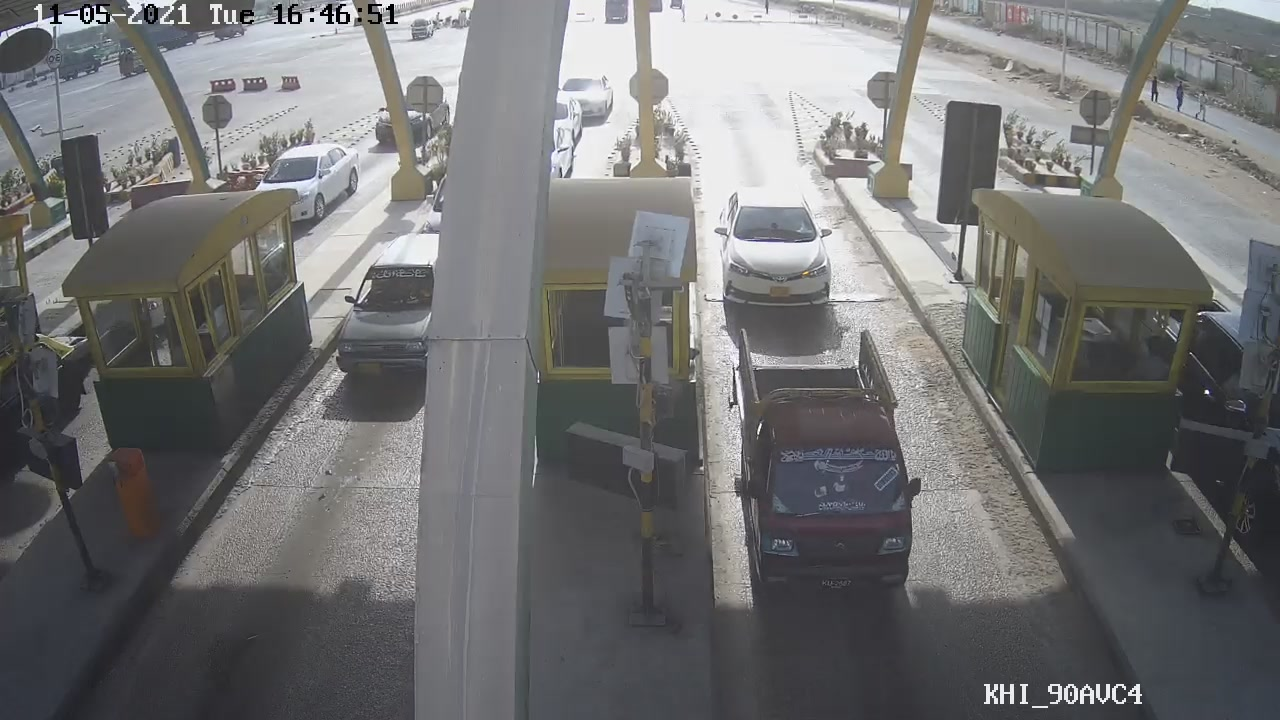F1: (723, 322, 925, 609), (710, 183, 839, 318)
